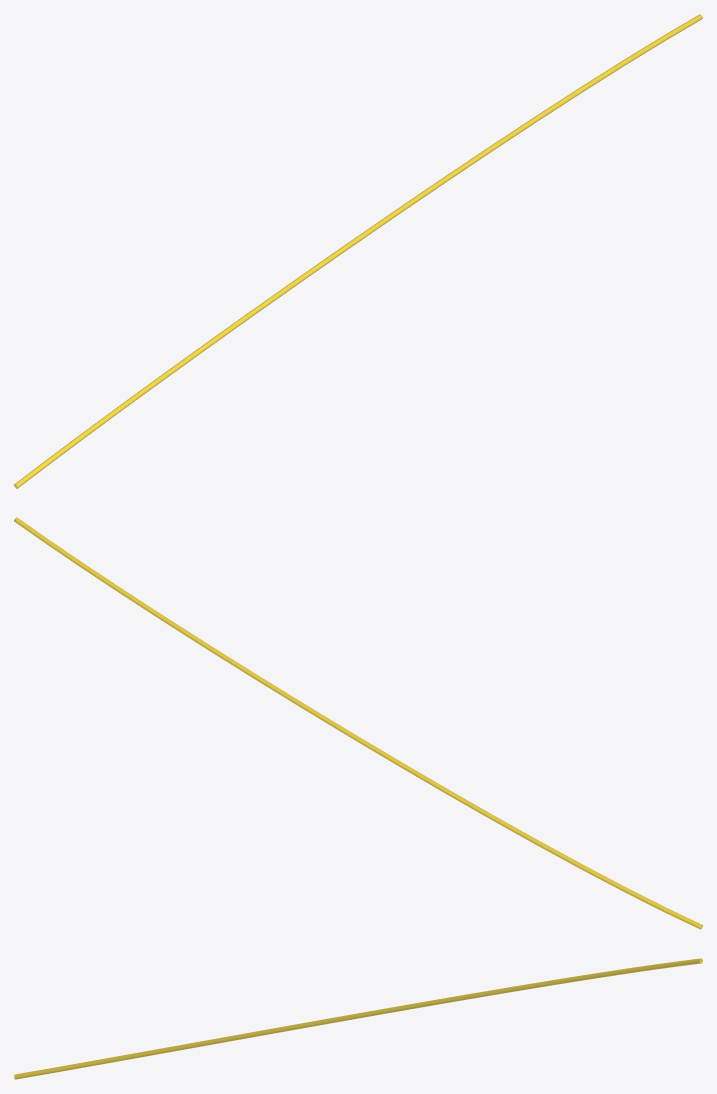
The model's file is Event_419990632_track_6.fbx.
The picture shows the model from 3 angles, top to bottom: view 1: azimuth 30°, elevation 25°; view 2: azimuth 150°, elevation 25°; view 3: azimuth 330°, elevation 25°; orthographic projection. The views are drawn at different scales.
Visible parts, largest first — view 1: Model; view 2: Model; view 3: Model.
Part boxes in pixels (left/top/right/bottom): Model: left=14, top=14, right=702, bottom=488; Model: left=14, top=517, right=702, bottom=929; Model: left=14, top=958, right=702, bottom=1079.
Bounding box in the file's own units: 5.92 × 2.27 × 0.422.
